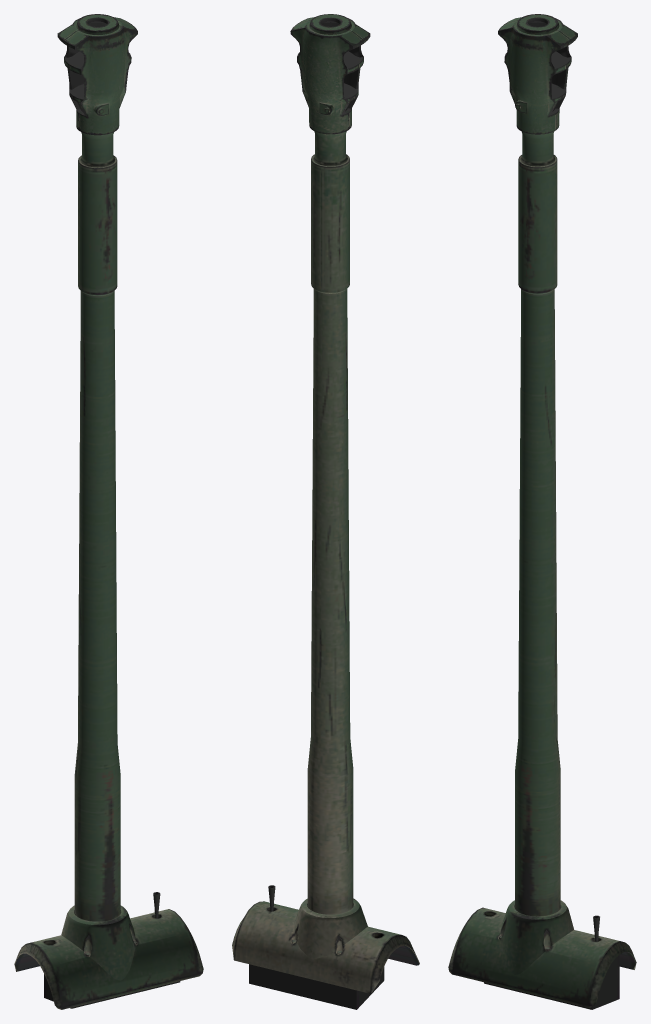
File: Gun_06.glb
The picture shows the model from 3 angles, left to right: view 1: azimuth 30°, elevation 25°; view 2: azimuth 150°, elevation 25°; view 3: azimuth 330°, elevation 25°; orthographic projection.
Visible parts, largest first — view 1: set_0_group_0; view 2: set_0_group_0; view 3: set_0_group_0.
Part boxes in pixels (x1,y1,x2,y2): set_0_group_0: (14,14,203,1009); set_0_group_0: (232,14,419,1009); set_0_group_0: (448,14,636,1009).
Size of the model in its own units: 1.02 by 6.39 by 0.5398.
Materials: 1 (1 with a texture image).
